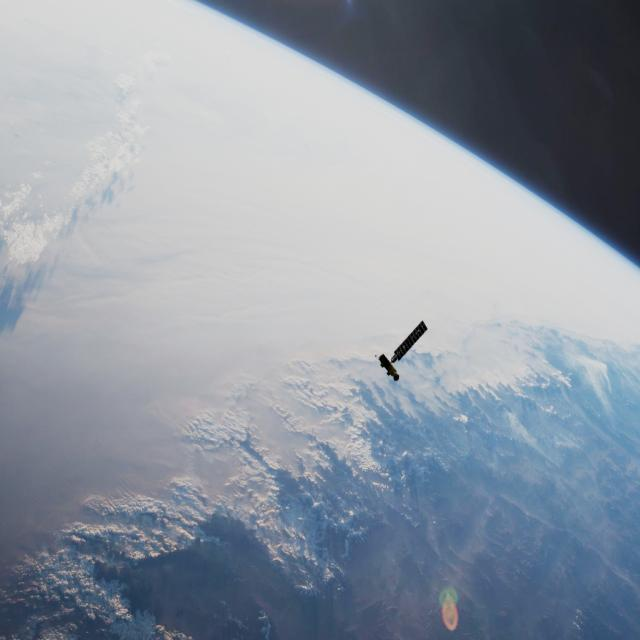satellite: (369, 313, 436, 389)
